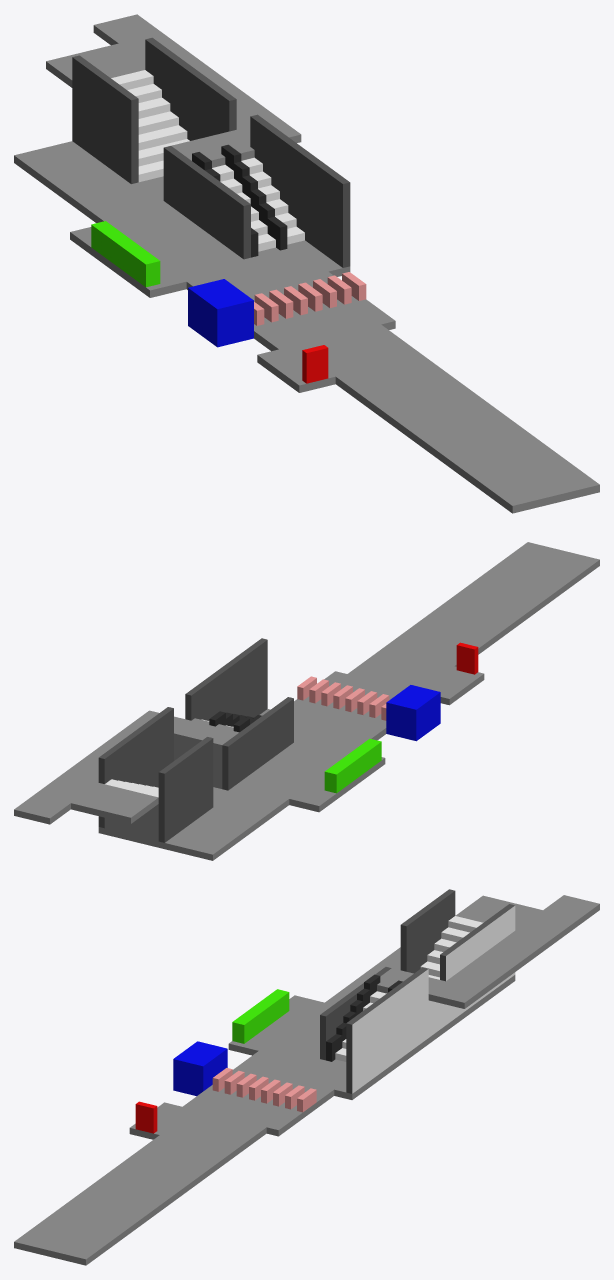
File: Omiya_tobu.gltf
3 views of the same model, one above another, from view 1: azimuth 30°, elevation 25°; view 2: azimuth 150°, elevation 25°; view 3: azimuth 330°, elevation 25° (orthographic). The views are drawn at different scales.
Visible parts, largest first — view 1: cube (×17); view 2: cube (×17); view 3: cube (×16).
Boxes of the visible parts, left/top/right/bottom form: cube (×17): left=14, top=14, right=599, bottom=513; cube (×17): left=14, top=542, right=599, bottom=860; cube (×16): left=14, top=889, right=599, bottom=1265.
Size of the model in its own units: 7.5 by 3 by 32.25.
1 material, 1 textured.
